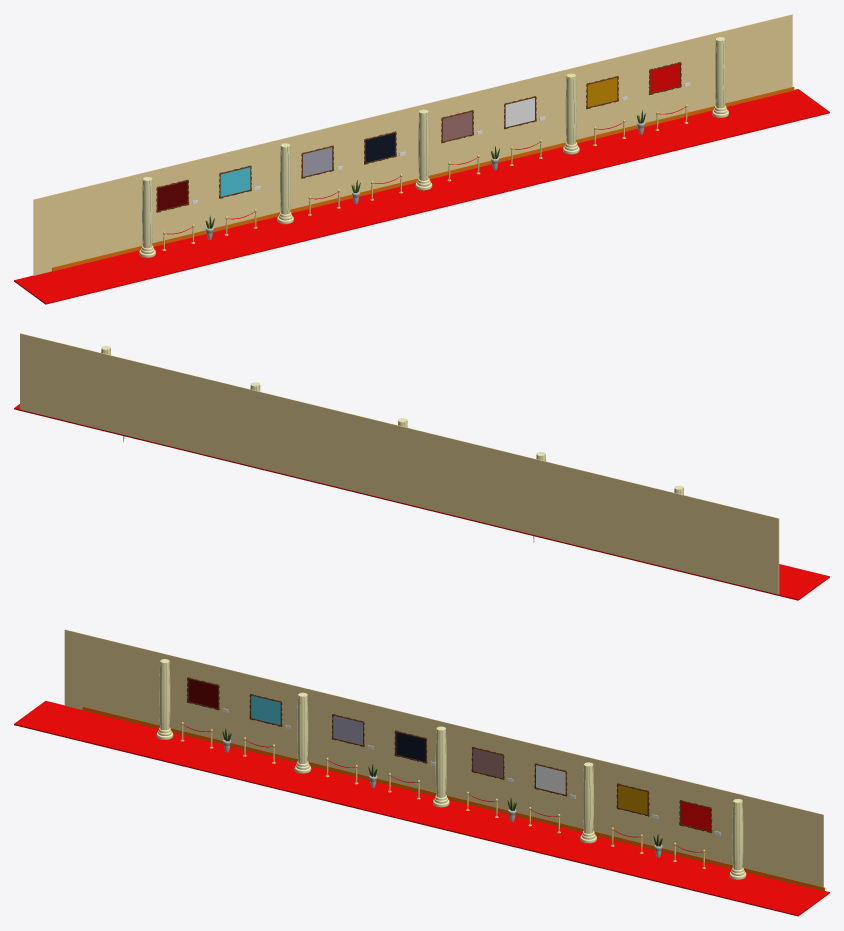
File: 갤러리_수정.fbx
3 renders of one model, top to bottom at view 1: azimuth 30°, elevation 25°; view 2: azimuth 150°, elevation 25°; view 3: azimuth 330°, elevation 25°, orthographic.
Visible parts, largest first — view 1: 벽, 바닥1, Default(13CDE683-6642-4B3C-A845-B5BAE8B064C7), Default(13CDE683-6642-4B3C-A845-B5BAE8B064C7)001, 기둥3, Default(71A3B5BF-58D6-4054-A68A-FD9F58477490)003, Default(71A3B5BF-58D6-4054-A68A-FD9F58477490)004, 기둥1, Default(71A3B5BF-58D6-4054-A68A-FD9F58477490)002, Default(9C71C5FD-D75A-401D-9BF4-8DD846FFC37C), Default(9C71C5FD-D75A-401D-9BF4-8DD846FFC37C)001, Default(3B7CE750-8B7E-4930-8A93-849CDBE57D09) (+7 smaller); view 2: 벽, 바닥1; view 3: 벽, 바닥1, Default(13CDE683-6642-4B3C-A845-B5BAE8B064C7), Default(13CDE683-6642-4B3C-A845-B5BAE8B064C7)001, Default(71A3B5BF-58D6-4054-A68A-FD9F58477490)002, Default(71A3B5BF-58D6-4054-A68A-FD9F58477490)004, 기둥3, 기둥1, Default(71A3B5BF-58D6-4054-A68A-FD9F58477490)003, Default(9C71C5FD-D75A-401D-9BF4-8DD846FFC37C), Default(9C71C5FD-D75A-401D-9BF4-8DD846FFC37C)001, Default(84213351-E40E-48A4-AD10-41AE7939B17C)001 (+7 smaller).
Boxes of the visible parts, x1=… form: 벽: x1=33, y1=14, x2=792, y2=275; 바닥1: x1=14, y1=89, x2=829, y2=304; Default(13CDE683-6642-4B3C-A845-B5BAE8B064C7): x1=52, y1=160, x2=491, y2=271; Default(13CDE683-6642-4B3C-A845-B5BAE8B064C7)001: x1=490, y1=86, x2=794, y2=162; 기둥3: x1=415, y1=109, x2=432, y2=190; Default(71A3B5BF-58D6-4054-A68A-FD9F58477490)003: x1=563, y1=73, x2=579, y2=154; Default(71A3B5BF-58D6-4054-A68A-FD9F58477490)004: x1=277, y1=143, x2=293, y2=224; 기둥1: x1=139, y1=177, x2=155, y2=257; Default(71A3B5BF-58D6-4054-A68A-FD9F58477490)002: x1=712, y1=37, x2=728, y2=117; Default(9C71C5FD-D75A-401D-9BF4-8DD846FFC37C): x1=156, y1=131, x2=396, y2=212; Default(9C71C5FD-D75A-401D-9BF4-8DD846FFC37C)001: x1=441, y1=62, x2=681, y2=143; Default(3B7CE750-8B7E-4930-8A93-849CDBE57D09): x1=365, y1=133, x2=395, y2=162; 벽: x1=20, y1=333, x2=779, y2=594; 바닥1: x1=14, y1=404, x2=829, y2=600; 벽: x1=64, y1=629, x2=823, y2=887; 바닥1: x1=14, y1=701, x2=829, y2=916; Default(13CDE683-6642-4B3C-A845-B5BAE8B064C7): x1=82, y1=706, x2=524, y2=817; Default(13CDE683-6642-4B3C-A845-B5BAE8B064C7)001: x1=520, y1=813, x2=824, y2=891; Default(71A3B5BF-58D6-4054-A68A-FD9F58477490)002: x1=729, y1=799, x2=746, y2=879; Default(71A3B5BF-58D6-4054-A68A-FD9F58477490)004: x1=294, y1=692, x2=311, y2=773; 기둥3: x1=433, y1=726, x2=449, y2=807; 기둥1: x1=156, y1=659, x2=173, y2=739; Default(71A3B5BF-58D6-4054-A68A-FD9F58477490)003: x1=580, y1=762, x2=596, y2=843; Default(9C71C5FD-D75A-401D-9BF4-8DD846FFC37C): x1=187, y1=677, x2=427, y2=763; Default(9C71C5FD-D75A-401D-9BF4-8DD846FFC37C)001: x1=471, y1=746, x2=712, y2=833; Default(84213351-E40E-48A4-AD10-41AE7939B17C)001: x1=618, y1=785, x2=647, y2=814.
Size of the model in its own units: 254 by 26.01 by 17.72.
